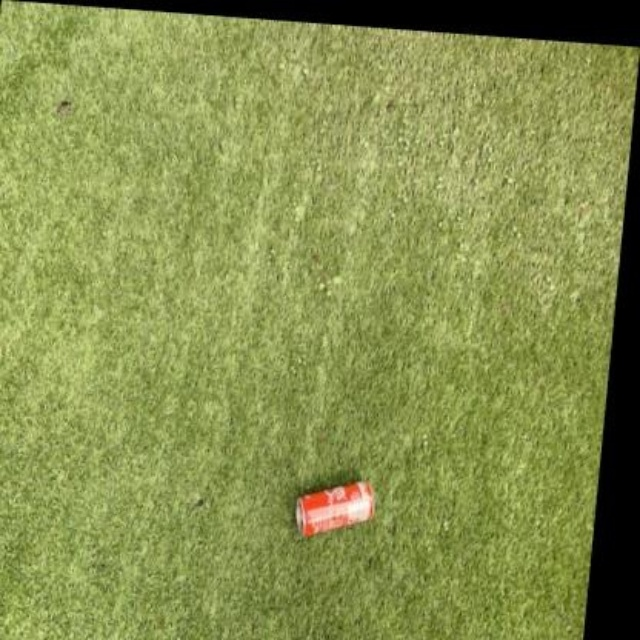trash: (295, 482, 372, 535)
